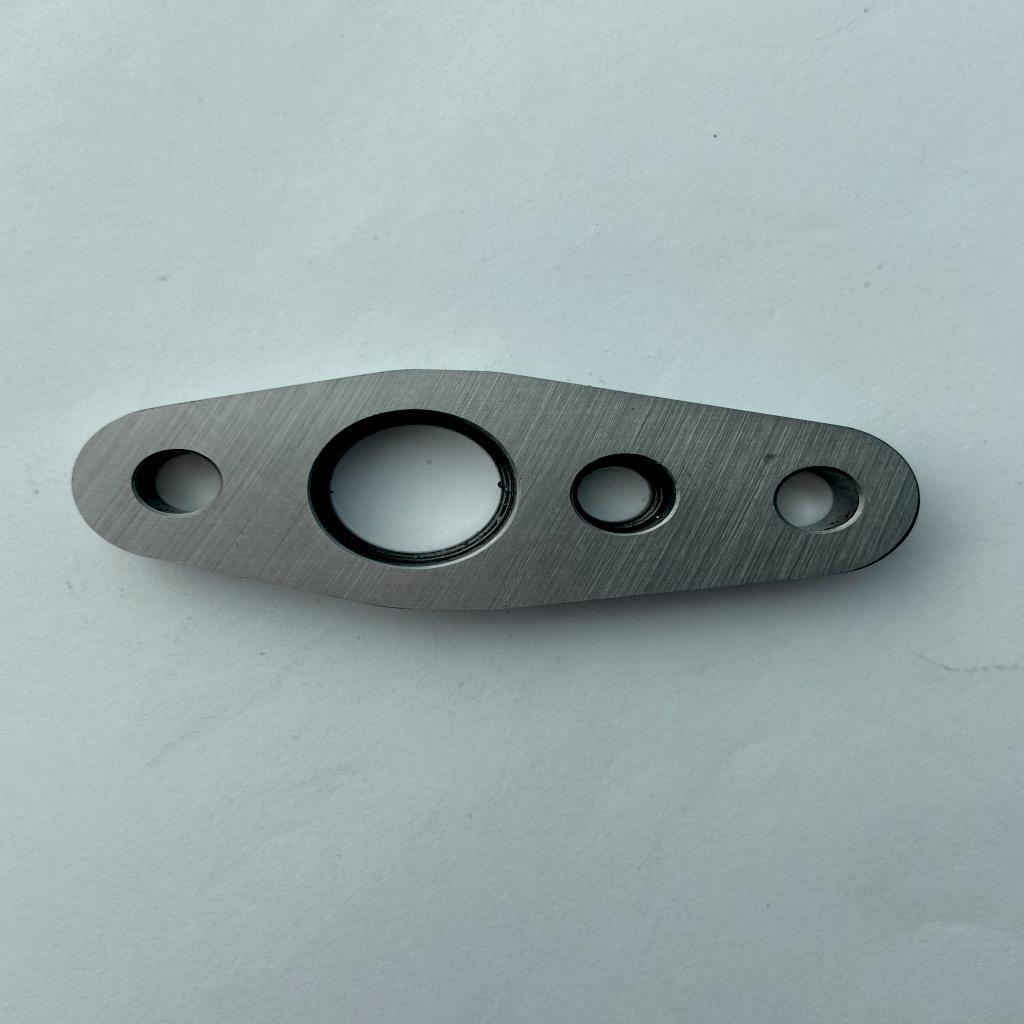chap: (456, 413, 470, 419)
lines: (756, 449, 782, 465)
